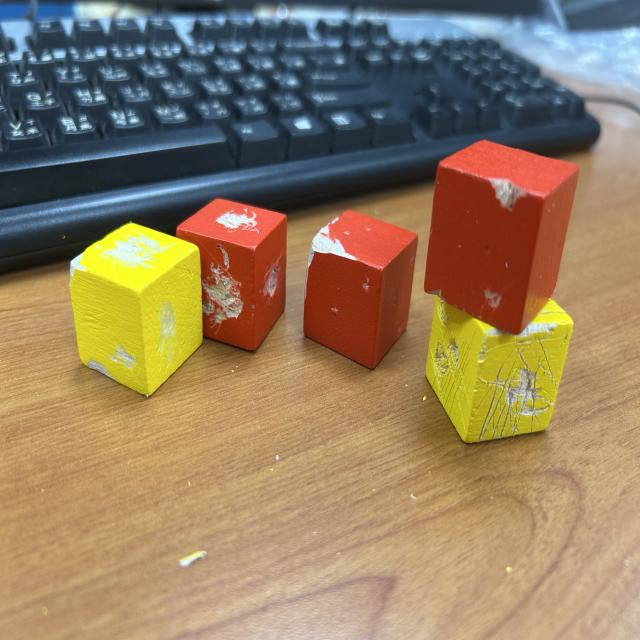broken: (424, 138, 580, 336), (425, 277, 575, 443), (68, 220, 203, 398), (304, 209, 417, 370), (176, 197, 287, 355)
